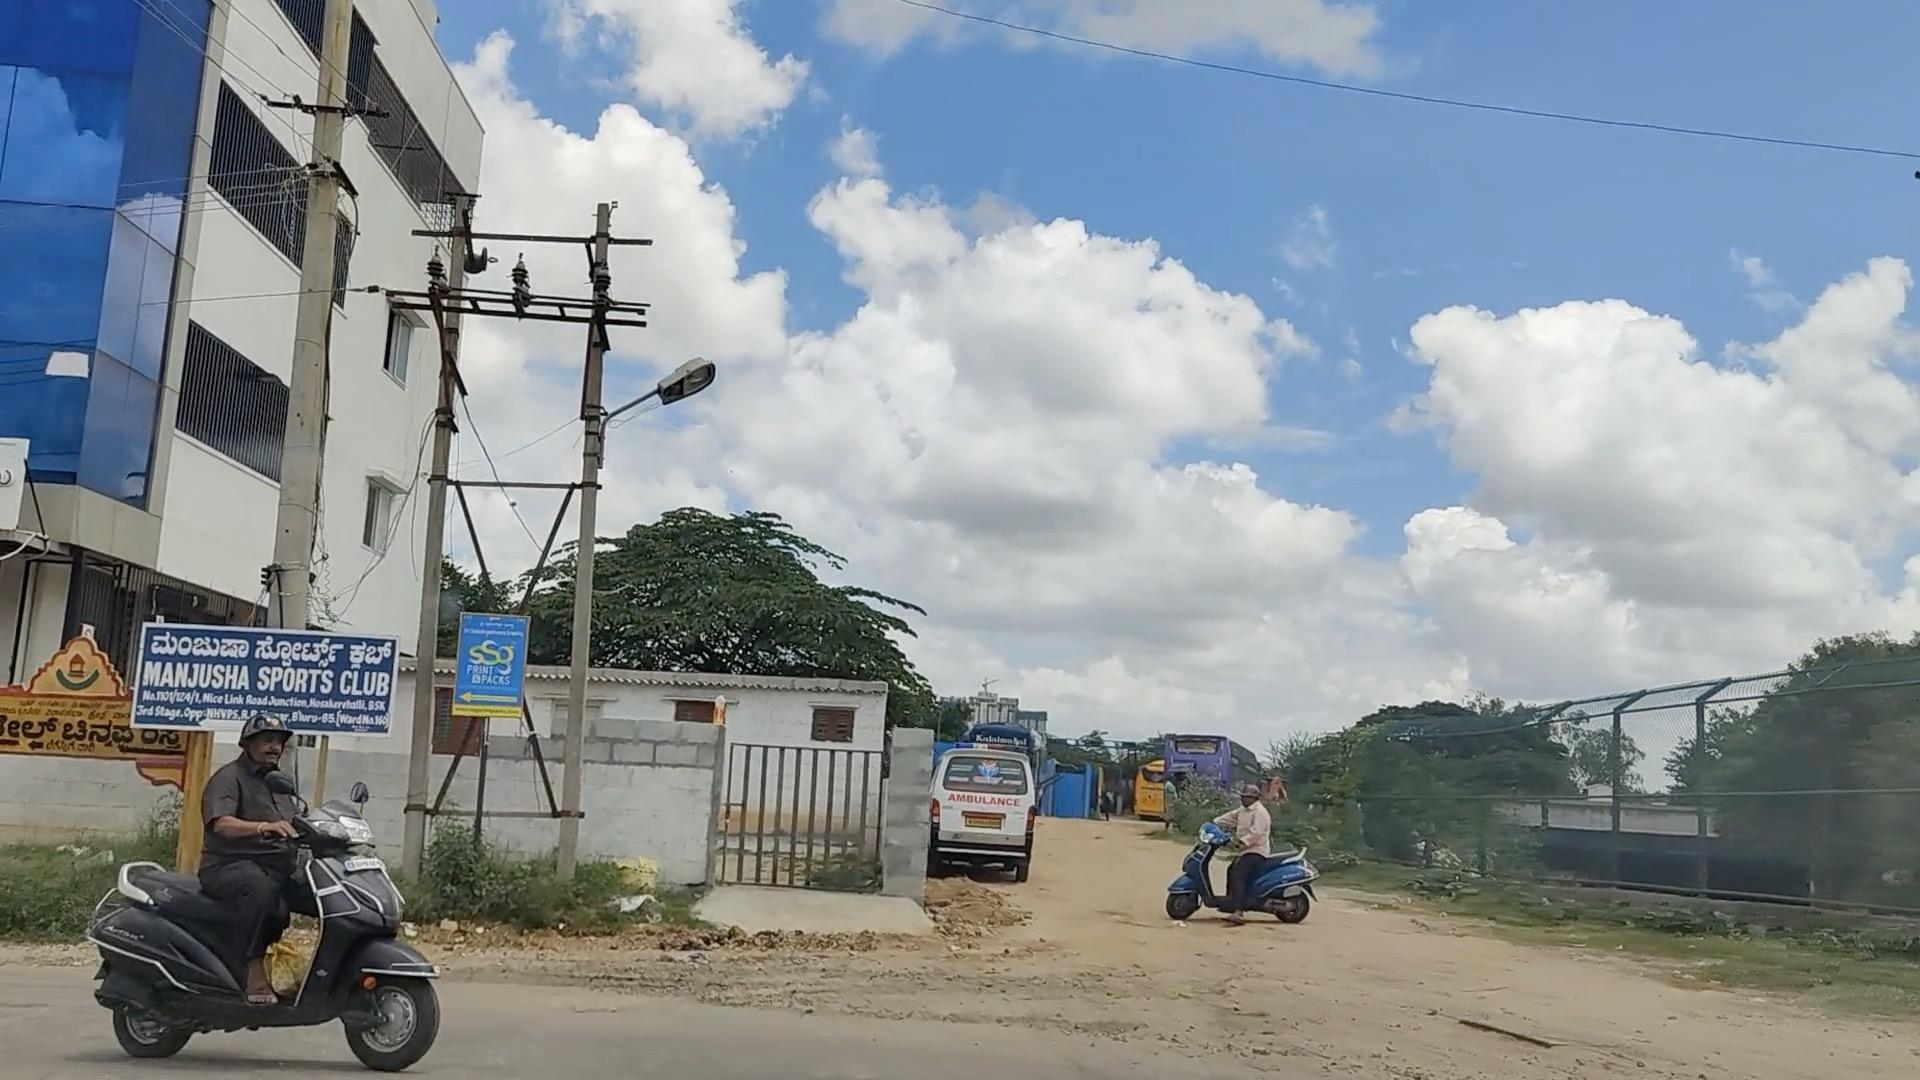LMV: (131, 709, 410, 1063), (1170, 775, 1295, 913), (945, 750, 1033, 868)
